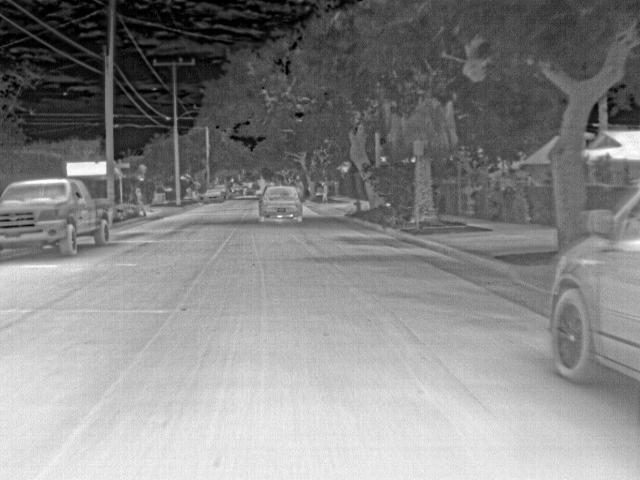car: (549, 184, 639, 382), (0, 177, 114, 257), (257, 185, 302, 223), (203, 188, 227, 204), (216, 184, 233, 200), (232, 185, 243, 195), (245, 187, 256, 195)
person: (321, 184, 329, 202)
